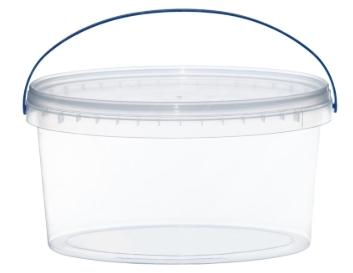SEAU: (11, 2, 353, 273)
